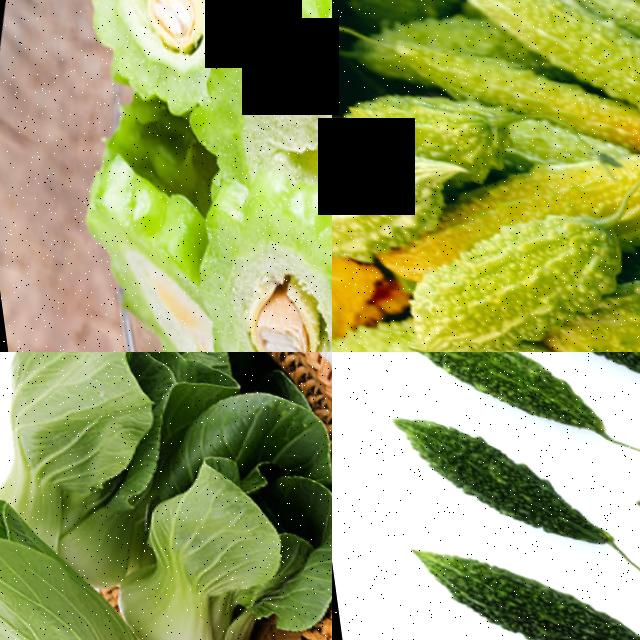bitter gourd: (335, 385, 633, 559), (411, 152, 640, 352), (177, 0, 332, 271), (154, 138, 332, 352), (58, 147, 238, 352), (394, 505, 640, 640), (332, 106, 457, 308), (440, 0, 640, 121), (356, 352, 608, 444), (65, 0, 252, 101)
bok choy: (95, 352, 332, 640), (0, 352, 174, 545), (0, 560, 332, 640)
